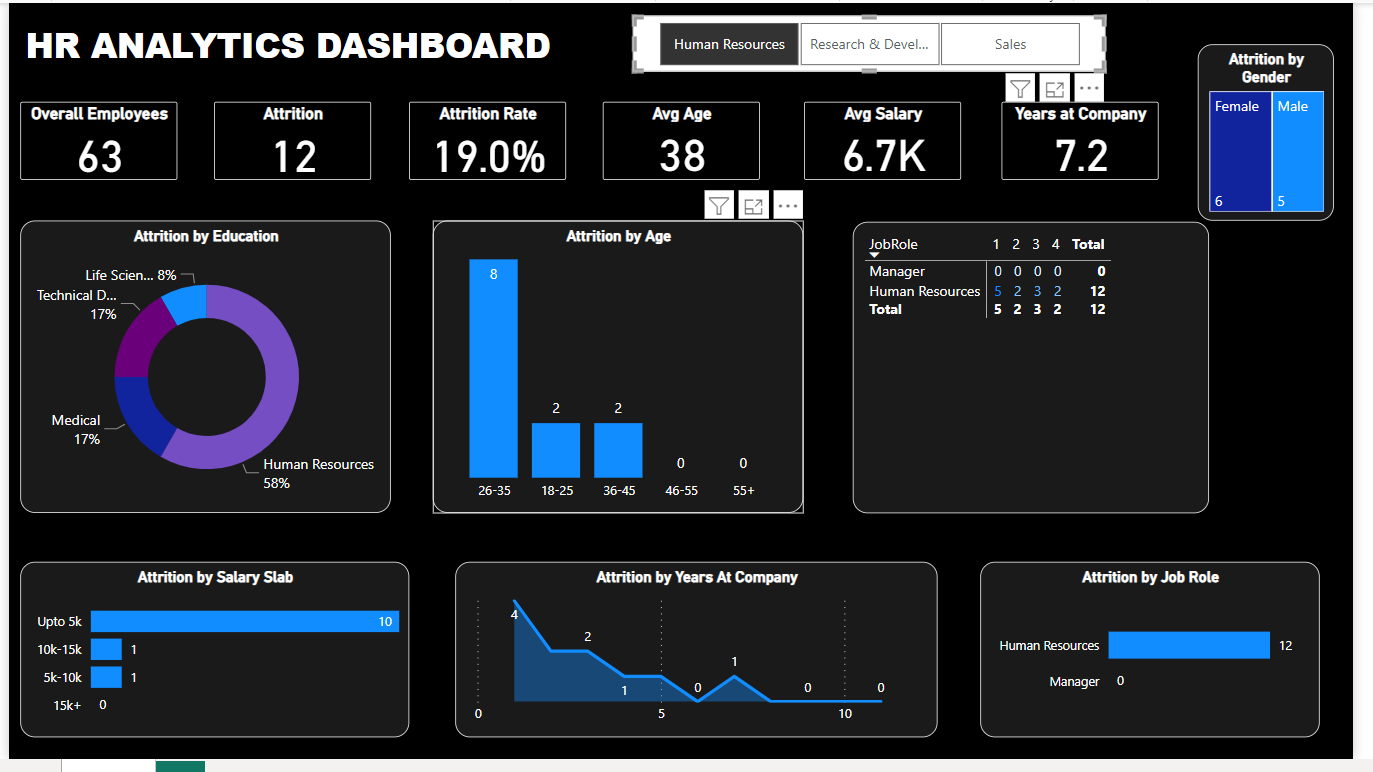

This screenshot's page, from the dashboard's own definition file:
{"tool":"powerbi","page":{"name":"Page 1","canvas":[1280,720],"ordinal":0},"visuals":[{"type":"card","title":"Overall Employees","fields":{"Values":["CountNonNull(HR_Analytics.EmpID)"]},"box":[10.7,94,150,83.3],"z":0},{"type":"card","title":"Attrition","fields":{"Values":["Sum(HR_Analytics.AttritionCount)"]},"box":[195.4,93.7,149.3,74.7],"z":1000},{"type":"card","title":"Attrition Rate","fields":{"Values":["HR_Analytics.AttritionRate"]},"box":[381.2,93.7,149.3,74.7],"z":2000},{"type":"card","title":"Avg Age","fields":{"Values":["Avg(HR_Analytics.Age)"]},"box":[565.4,94.2,149.4,74],"z":3000},{"type":"card","title":"Avg Salary","fields":{"Values":["Avg(HR_Analytics.MonthlyIncome)"]},"box":[756.6,94.2,149.4,74],"z":4000},{"type":"card","title":"Years at Company","fields":{"Values":["Avg(HR_Analytics.YearsAtCompany)"]},"box":[945.1,94.2,149.4,74],"z":5000},{"type":"donutChart","title":"Attrition by Education","fields":{"Category":["HR_Analytics.EducationField"],"Y":["Sum(HR_Analytics.AttritionCount)"]},"box":[10.8,207.3,352.7,278.7],"z":6000},{"type":"columnChart","title":"Attrition by Age","fields":{"Category":["HR_Analytics.AgeGroup"],"Y":["Sum(HR_Analytics.AttritionCount)"]},"box":[403.9,207.3,352.7,278.7],"z":7000},{"type":"pivotTable","fields":{"Rows":["HR_Analytics.JobRole"],"Columns":["HR_Analytics.JobSatisfaction"],"Values":["Sum(HR_Analytics.AttritionCount)"]},"box":[803.7,208.7,339.3,277.3],"z":8000},{"type":"barChart","title":"Attrition by Salary Slab","fields":{"Category":["HR_Analytics.SalarySlab"],"Y":["Sum(HR_Analytics.AttritionCount)"]},"box":[10.8,531.8,370.2,166.9],"z":9000},{"type":"barChart","title":"Attrition by Job Role","fields":{"Y":["Sum(HR_Analytics.AttritionCount)"],"Category":["HR_Analytics.JobRole"]},"box":[924.9,531.8,323.1,166.9],"z":10000},{"type":"areaChart","title":"Attrition by Years At Company","fields":{"Category":["HR_Analytics.YearsAtCompany"],"Y":["Sum(HR_Analytics.AttritionCount)"]},"box":[425.4,531.8,459.1,166.9],"z":11000},{"type":"slicer","fields":{"Values":["HR_Analytics.Department"]},"box":[591.5,26.2,449.9,53.6],"z":12000},{"type":"textbox","box":[10.8,12.1,569.5,82.1],"z":13000},{"type":"treemap","title":"Attrition by Gender","fields":{"Group":["HR_Analytics.Gender"],"Values":["Sum(HR_Analytics.AttritionCount)"]},"box":[1132.2,39,129.2,168.3],"z":14000}]}

Visuals, with their boxes in screenshot pixels (x1, y1, x2, y2), scaled from the page's 1280x720 canvas onto the 1373x772 screenshot:
"Overall Employees" card: bbox(11, 101, 172, 190)
"Attrition" card: bbox(210, 100, 370, 181)
"Attrition Rate" card: bbox(409, 100, 569, 181)
"Avg Age" card: bbox(606, 101, 767, 180)
"Avg Salary" card: bbox(812, 101, 972, 180)
"Years at Company" card: bbox(1014, 101, 1174, 180)
"Attrition by Education" donutChart: bbox(12, 222, 390, 521)
"Attrition by Age" columnChart: bbox(433, 222, 812, 521)
pivotTable - HR_Analytics.JobRole x HR_Analytics.JobSatisfaction: bbox(862, 224, 1226, 521)
"Attrition by Salary Slab" barChart: bbox(12, 570, 409, 749)
"Attrition by Job Role" barChart: bbox(992, 570, 1339, 749)
"Attrition by Years At Company" areaChart: bbox(456, 570, 949, 749)
slicer - HR_Analytics.Department: bbox(634, 28, 1117, 86)
textbox: bbox(12, 13, 622, 101)
"Attrition by Gender" treemap: bbox(1214, 42, 1353, 222)
